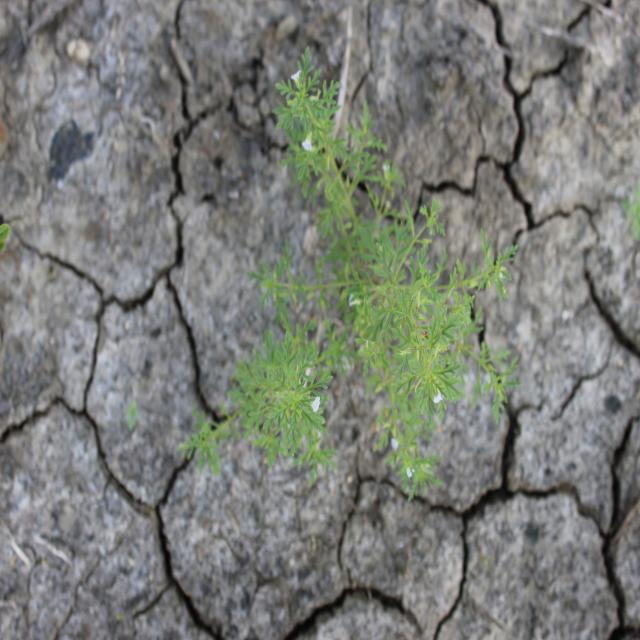Ragweed: (174, 43, 525, 506)
